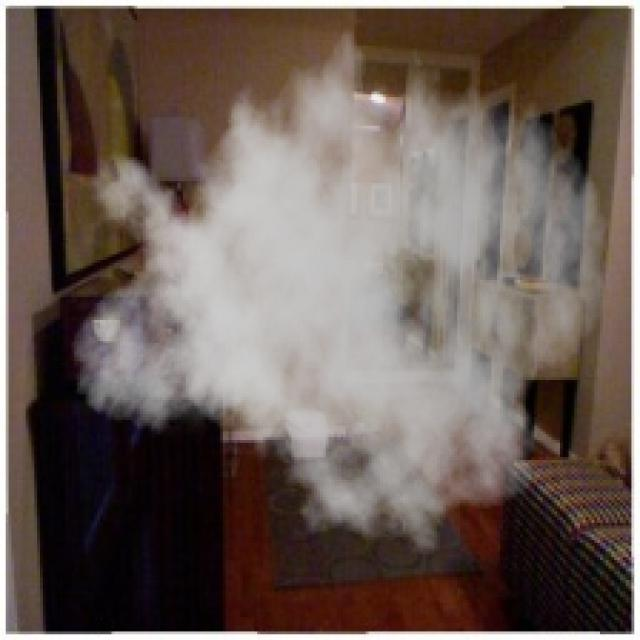smoke: (69, 3, 608, 568)
